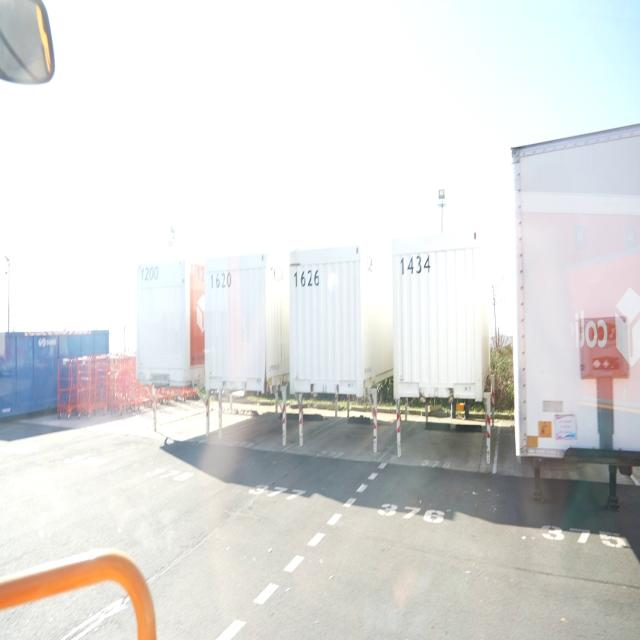Code: (396, 249, 436, 280), (286, 265, 326, 296), (137, 263, 165, 286), (209, 272, 235, 292)
